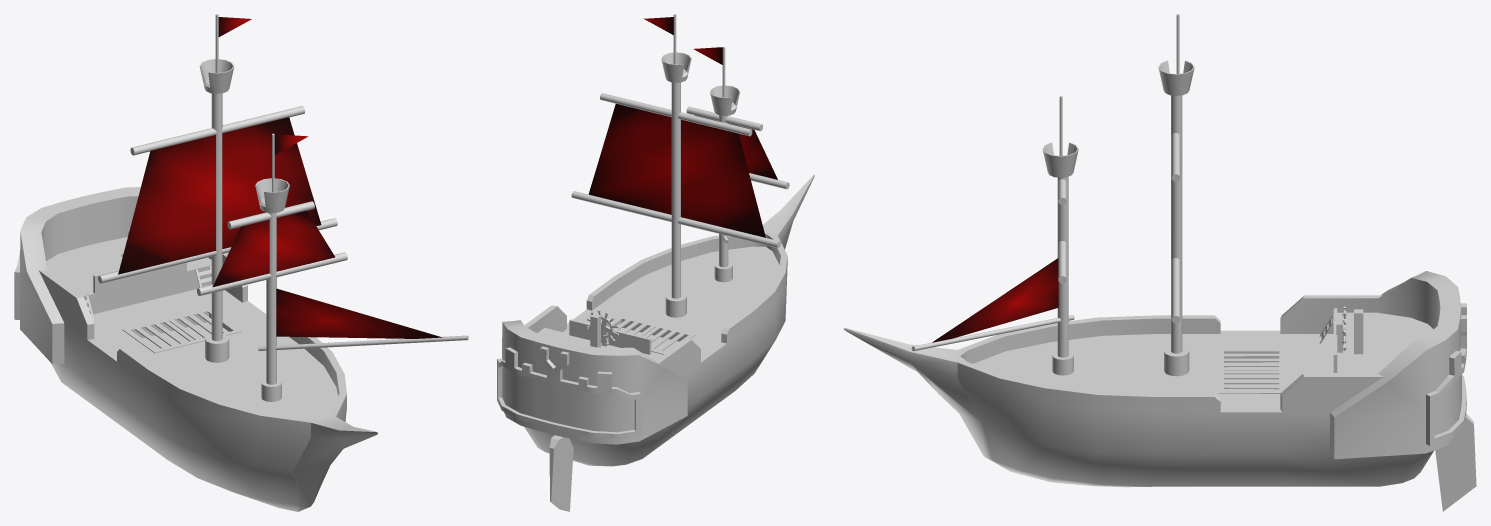
Rendered from SM_Boat.fbx.
The picture shows the model from 3 angles, left to right: view 1: azimuth 30°, elevation 25°; view 2: azimuth 150°, elevation 25°; view 3: azimuth 270°, elevation 25°; orthographic projection. The views are drawn at different scales.
Visible parts, largest first — view 1: Box110, Plane036, Box116, Plane028, Plane032, Boat, Cylinder059, Box109, Cylinder063, Box104, Cylinder073, Box105 (+6 smaller); view 2: Box110, Plane036, Box116, Boat, Box115, Cylinder059, Box108, Cylinder072, Cylinder073, Box109, Box105, Plane028 (+6 smaller); view 3: Box110, Box116, Boat, Plane032, Box109, Cylinder059, Box108, Cylinder063, Box115, Cone003, Cone004, Cylinder066.
Boxes of the visible parts, x1=… form: Box110: x1=20, y1=187, x2=378, y2=511; Plane036: x1=118, y1=117, x2=321, y2=274; Box116: x1=20, y1=192, x2=377, y2=511; Plane028: x1=212, y1=210, x2=334, y2=287; Plane032: x1=276, y1=288, x2=442, y2=338; Boat: x1=46, y1=237, x2=211, y2=296; Cylinder059: x1=205, y1=93, x2=229, y2=362; Box109: x1=122, y1=308, x2=241, y2=353; Cylinder063: x1=261, y1=213, x2=281, y2=401; Box104: x1=83, y1=265, x2=211, y2=314; Cylinder073: x1=130, y1=106, x2=305, y2=155; Box105: x1=93, y1=262, x2=186, y2=297; Box110: x1=502, y1=175, x2=814, y2=466; Plane036: x1=588, y1=104, x2=765, y2=237; Box116: x1=502, y1=175, x2=814, y2=466; Boat: x1=502, y1=328, x2=661, y2=432; Box115: x1=497, y1=346, x2=640, y2=438; Cylinder059: x1=665, y1=82, x2=686, y2=317; Box108: x1=549, y1=435, x2=573, y2=511; Cylinder072: x1=571, y1=191, x2=780, y2=247; Cylinder073: x1=600, y1=93, x2=752, y2=136; Box109: x1=609, y1=316, x2=695, y2=354; Box105: x1=569, y1=319, x2=651, y2=354; Plane028: x1=695, y1=115, x2=777, y2=179; Box110: x1=844, y1=271, x2=1460, y2=487; Box116: x1=843, y1=279, x2=1460, y2=487; Boat: x1=1333, y1=312, x2=1461, y2=435; Plane032: x1=932, y1=258, x2=1058, y2=342; Box109: x1=1218, y1=348, x2=1285, y2=393; Cylinder059: x1=1164, y1=95, x2=1189, y2=376; Box108: x1=1435, y1=413, x2=1476, y2=511; Cylinder063: x1=1052, y1=176, x2=1073, y2=375; Box115: x1=1426, y1=303, x2=1466, y2=445; Cone003: x1=1158, y1=60, x2=1194, y2=95; Cone004: x1=1042, y1=142, x2=1078, y2=177; Cylinder066: x1=911, y1=315, x2=1074, y2=350.
Bounding box in the file's own units: 243 × 525 × 453.
